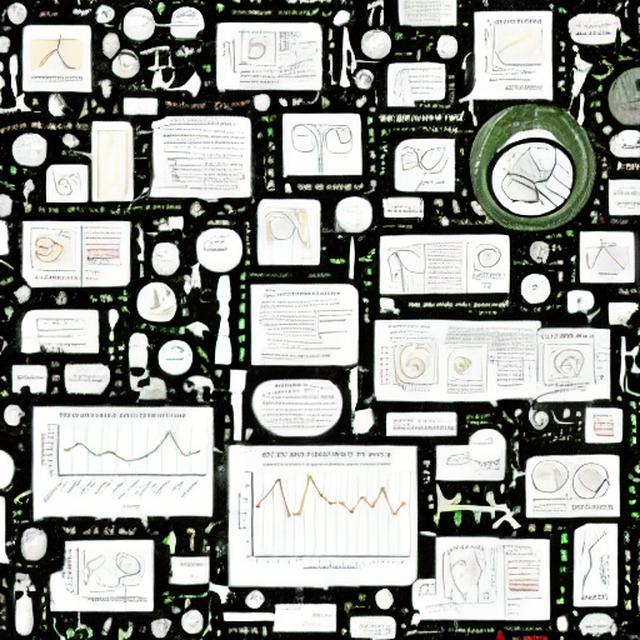Graph: (233, 460, 414, 575), (34, 408, 212, 515), (582, 240, 633, 278)
